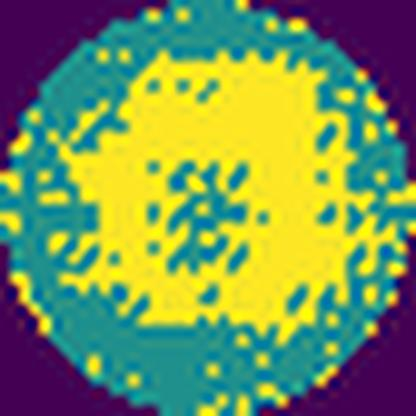Donut: (56, 49, 392, 342)
